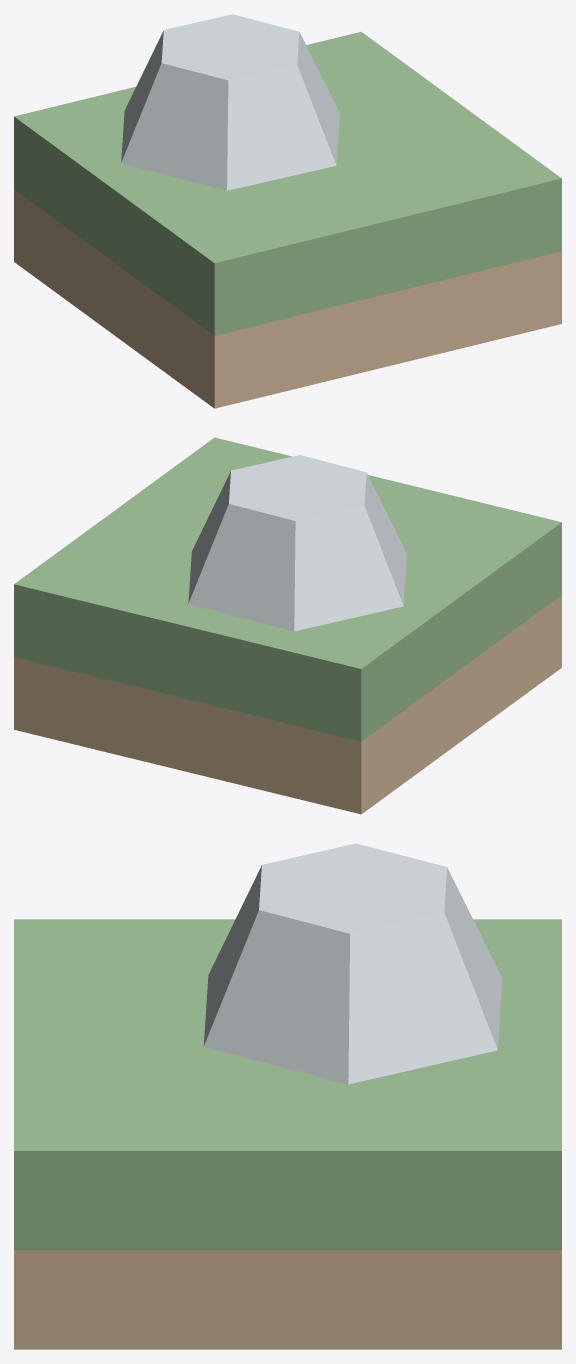
File: tower-defense-classic--tile-074.glb
3 renders of one model, top to bottom at view 1: azimuth 30°, elevation 25°; view 2: azimuth 150°, elevation 25°; view 3: azimuth 270°, elevation 25°, orthographic. The views are drawn at different scales.
Visible parts, largest first — view 1: tile_074, Group; view 2: tile_074, Group; view 3: tile_074, Group.
Boxes of the visible parts, <box> form: tile_074: <box>14,31,561,408</box>; Group: <box>121,14,339,190</box>; tile_074: <box>14,437,561,814</box>; Group: <box>188,455,406,631</box>; tile_074: <box>14,919,561,1349</box>; Group: <box>203,843,502,1084</box>.
Size of the model in its own units: 1 by 0.65 by 1.
